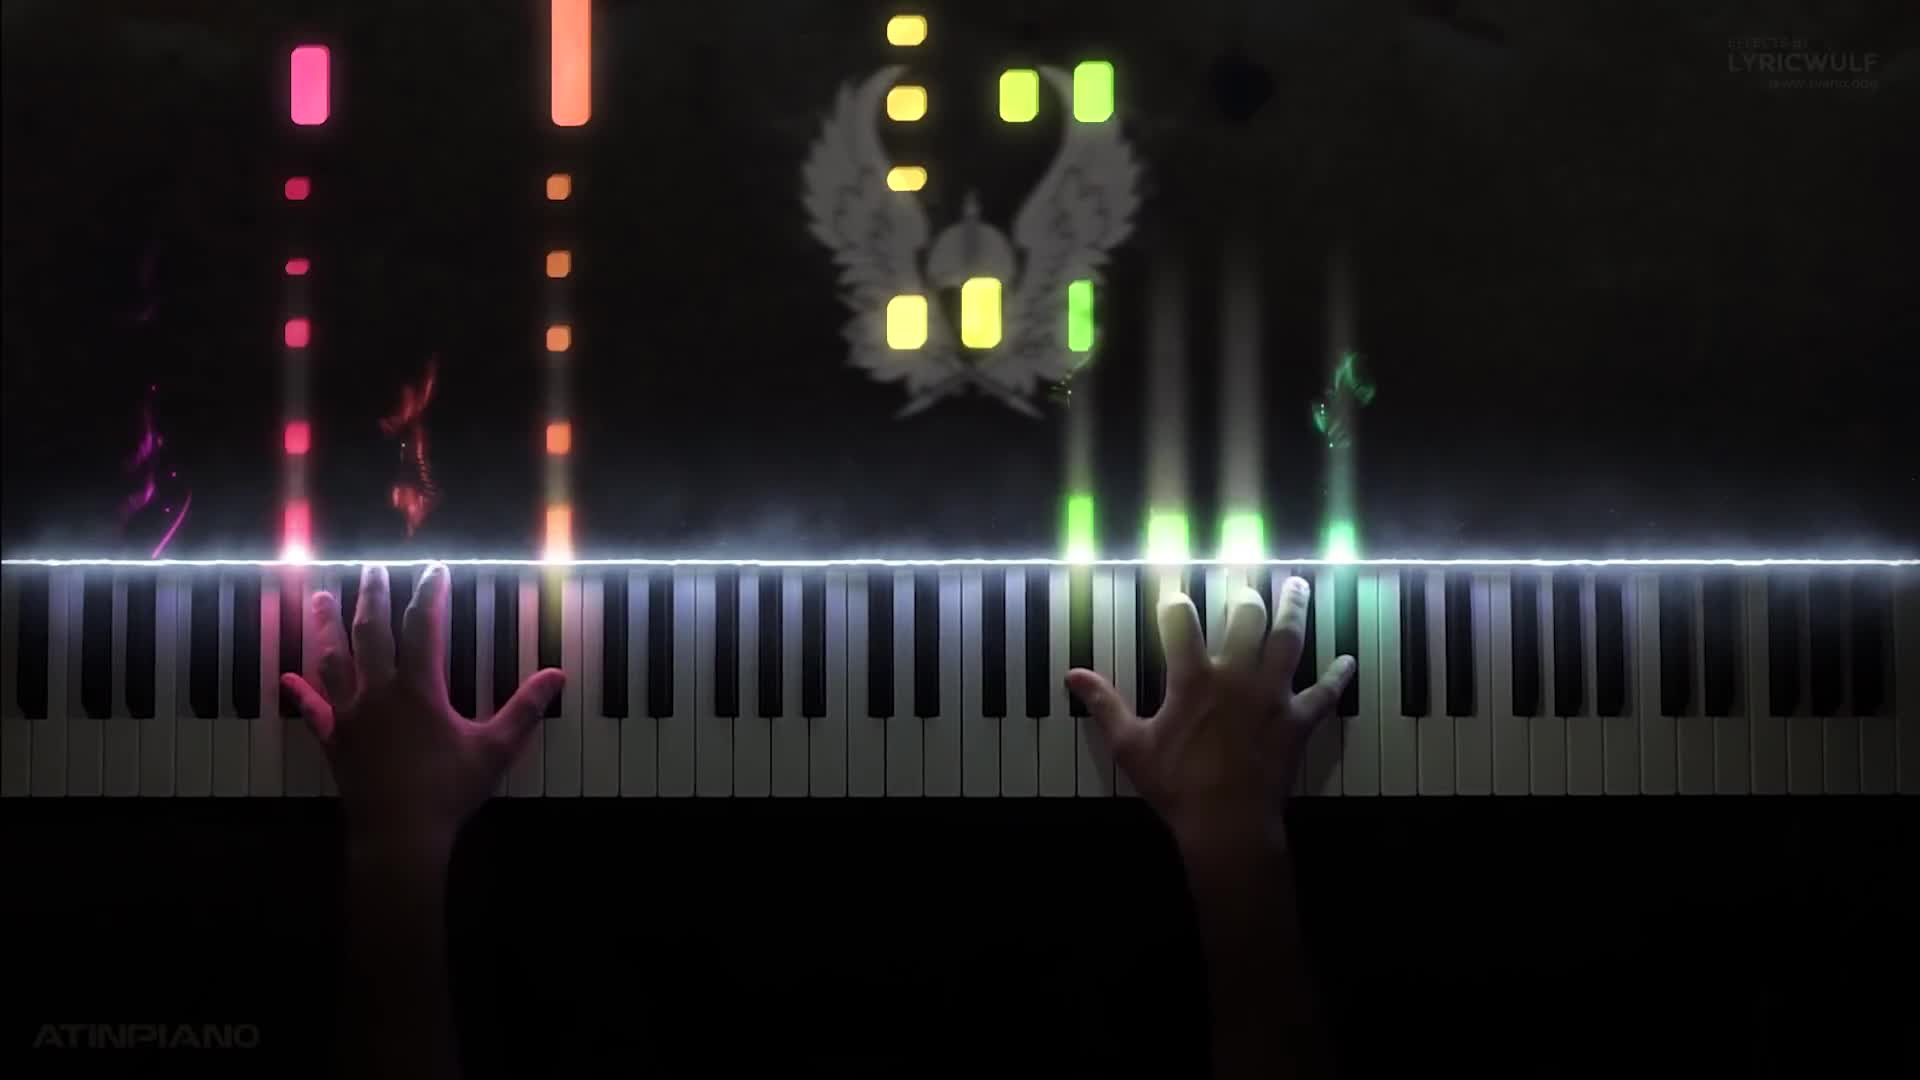left: (266, 560, 578, 837)
right: (1059, 568, 1364, 833)
